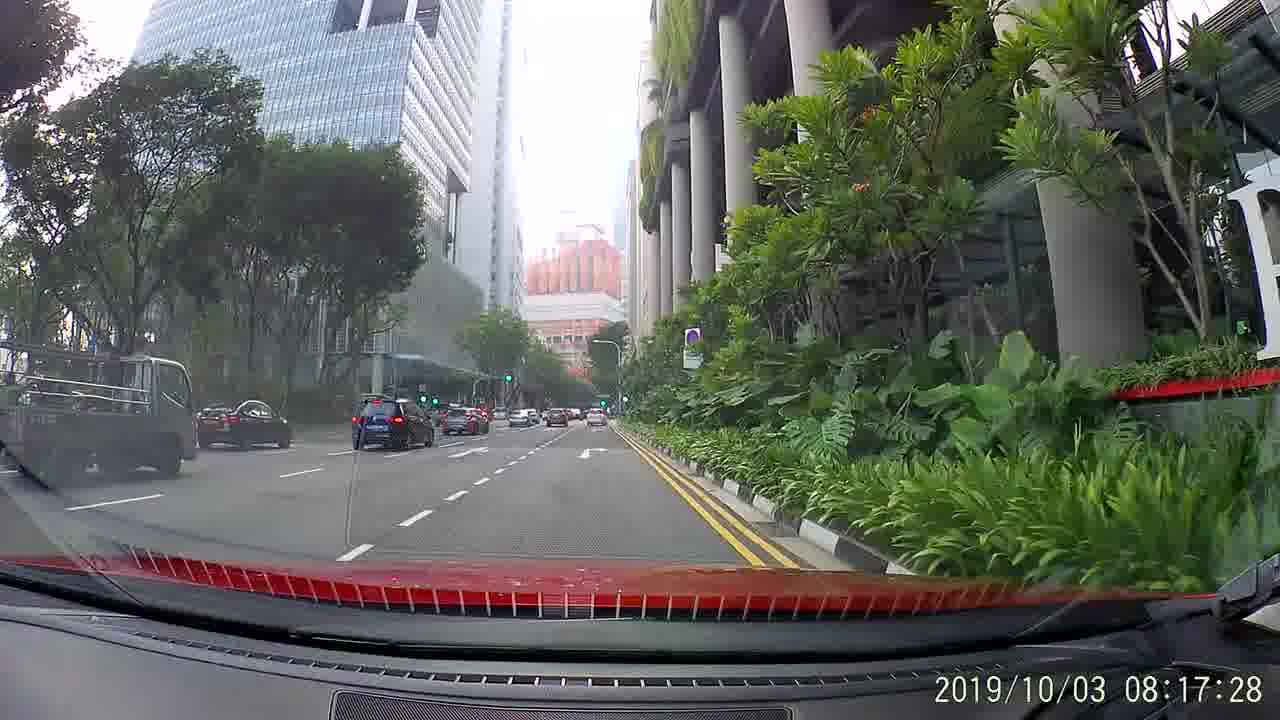car: (350, 394, 443, 451), (198, 398, 293, 452), (437, 401, 489, 437), (506, 406, 534, 427), (583, 404, 608, 426), (543, 409, 568, 428)
